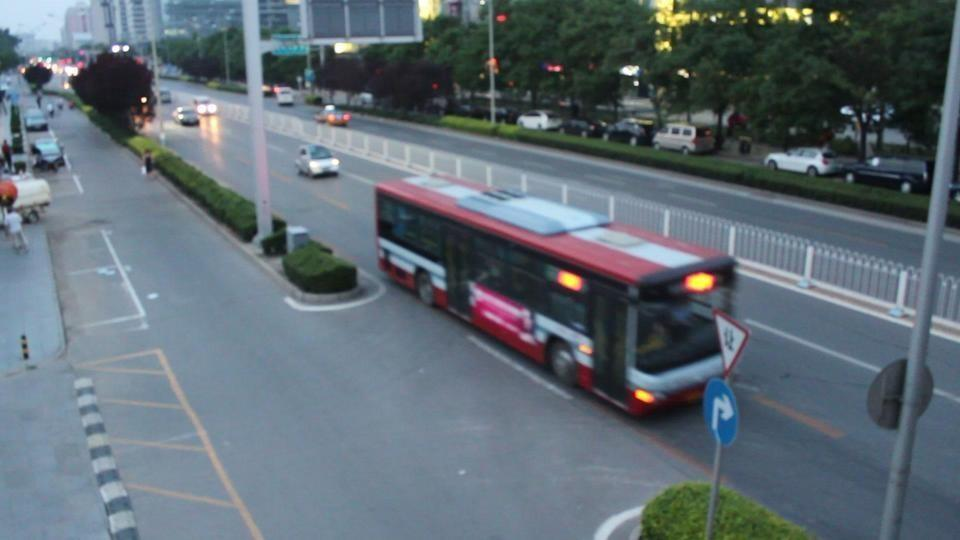car: (840, 156, 930, 193), (0, 173, 53, 223), (764, 147, 849, 178), (653, 124, 718, 155), (295, 144, 341, 178), (604, 119, 654, 146), (28, 136, 64, 171), (517, 110, 563, 131), (314, 106, 352, 126), (560, 119, 594, 138), (24, 109, 48, 132), (173, 107, 200, 127), (195, 99, 218, 116), (276, 88, 296, 107), (352, 92, 375, 108), (157, 89, 173, 104)
